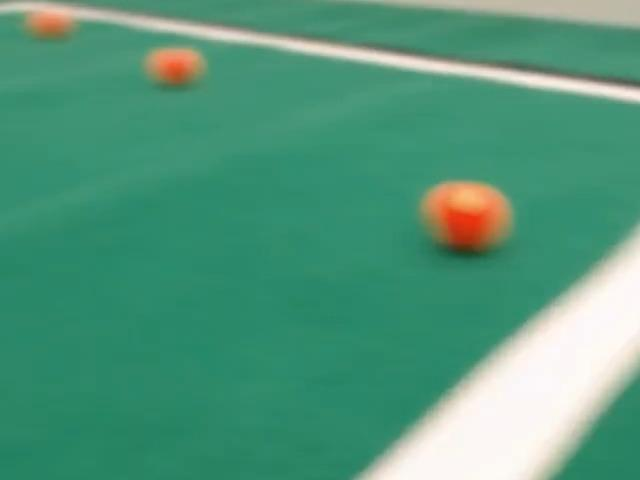Ball: (420, 181, 512, 252), (145, 48, 204, 86)
